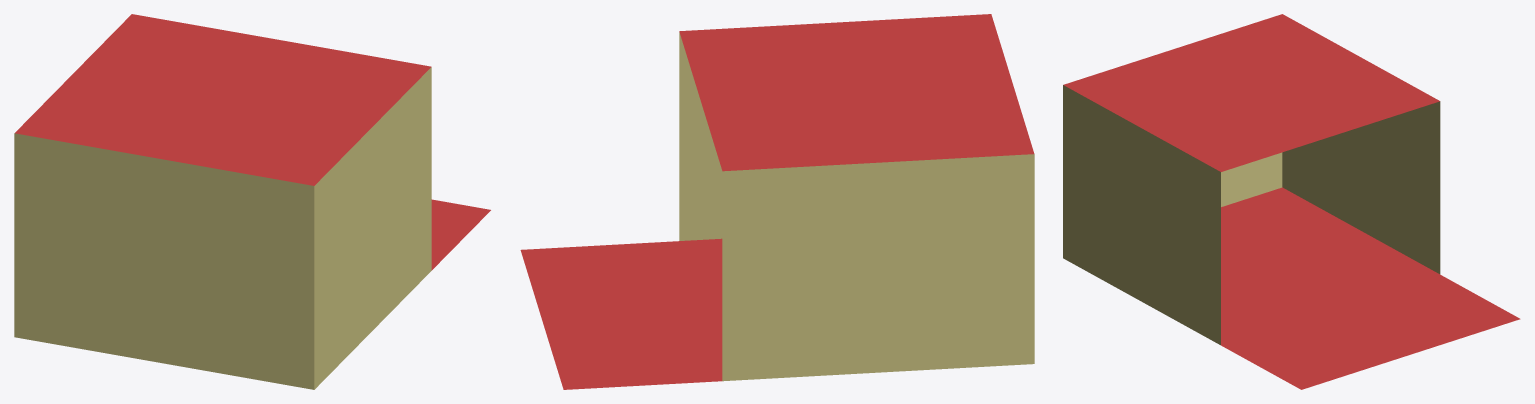
The picture shows the model from 3 angles, left to right: view 1: azimuth 30°, elevation 25°; view 2: azimuth 150°, elevation 25°; view 3: azimuth 270°, elevation 25°; orthographic projection. The views are drawn at different scales.
Bounding box in the file's own units: 12.06 × 11.51 × 4.81.
